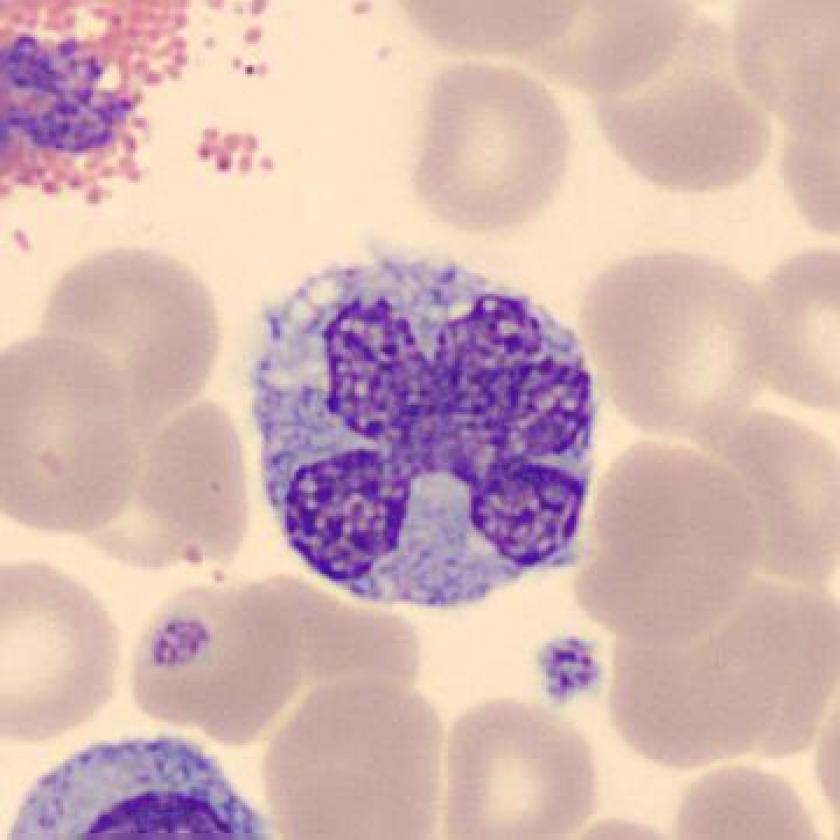monocyte: (225, 233, 622, 631)
